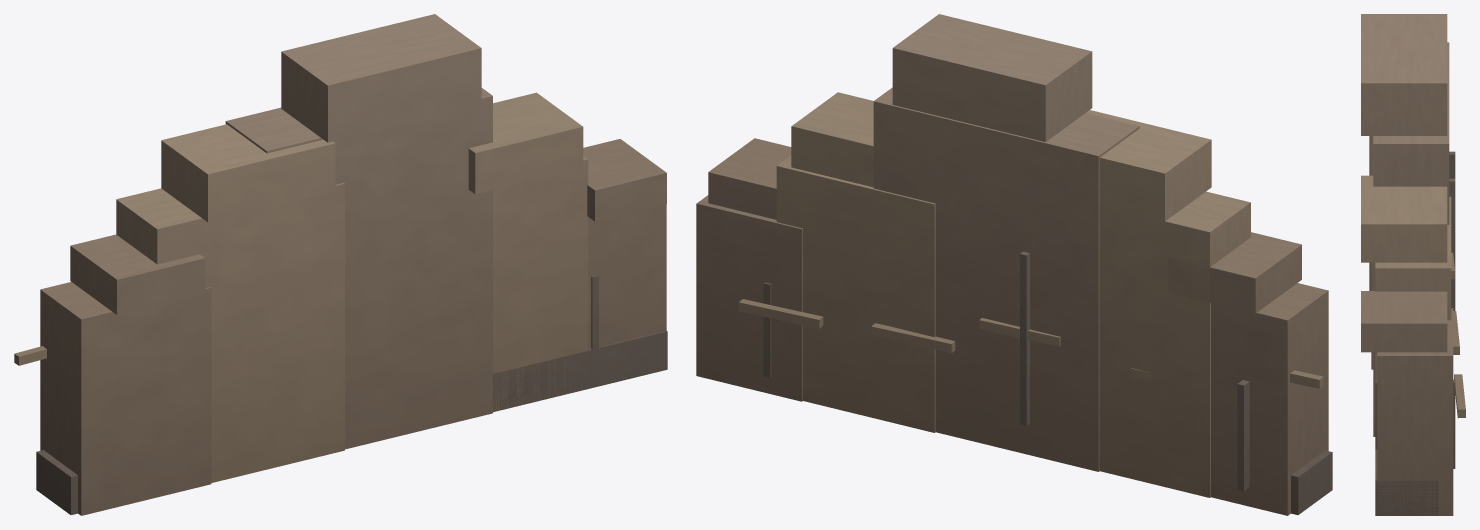
The model's file is mesa_skyline.glb.
3 renders of one model, left to right at view 1: azimuth 30°, elevation 25°; view 2: azimuth 150°, elevation 25°; view 3: azimuth 270°, elevation 25°, orthographic. The views are drawn at different scales.
Parts seen in each view (by area): view 1: mesa_skyline; view 2: mesa_skyline; view 3: mesa_skyline.
Boxes of the visible parts, x1,y1,x2,y2 form: mesa_skyline: [14, 14, 667, 515]; mesa_skyline: [696, 14, 1332, 515]; mesa_skyline: [1361, 14, 1465, 515].
Size of the model in its own units: 6.43 by 3.72 by 1.02.
1 material, 1 textured.
